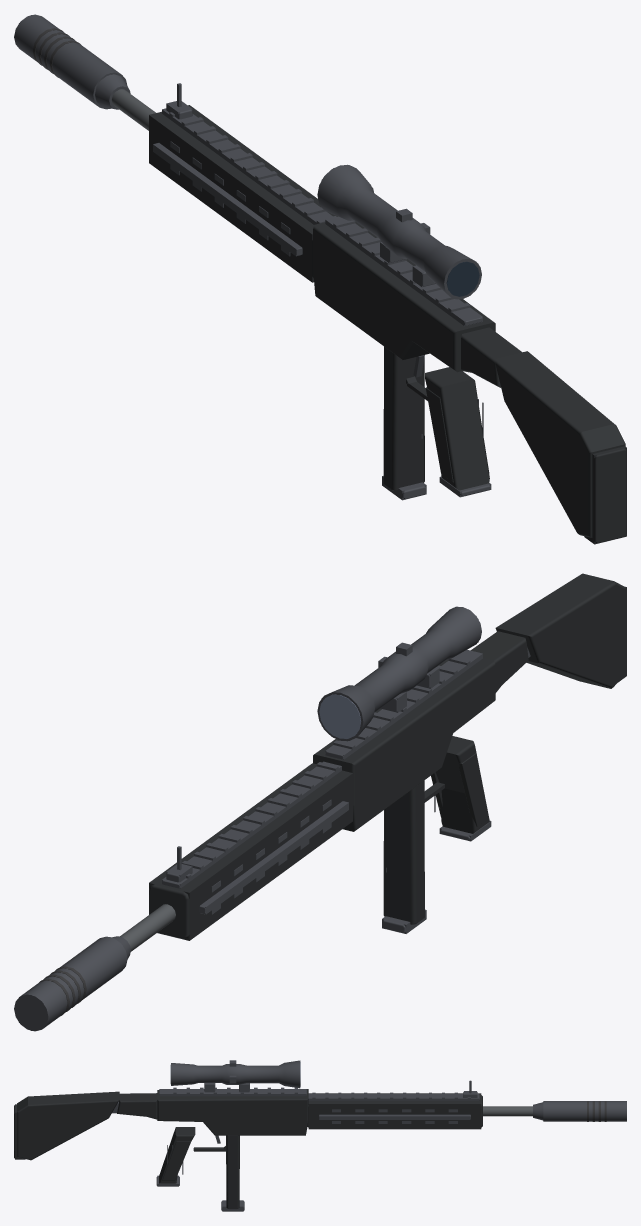
File: d_whisper.glb
3 renders of one model, top to bottom at view 1: azimuth 30°, elevation 25°; view 2: azimuth 150°, elevation 25°; view 3: azimuth 270°, elevation 25°, orthographic. The views are drawn at different scales.
Visible parts, largest first — view 1: L0, L1; view 2: L0, L1; view 3: L0, L1.
Part boxes in pixels (<box>): L0: <box>14,14,626,543</box>; L1: <box>18,15,626,544</box>; L0: <box>14,573,626,1031</box>; L1: <box>14,586,626,1030</box>; L0: <box>14,1060,626,1210</box>; L1: <box>15,1060,626,1211</box>.
Size of the model in its own units: 0.06 by 0.3 by 1.14.
